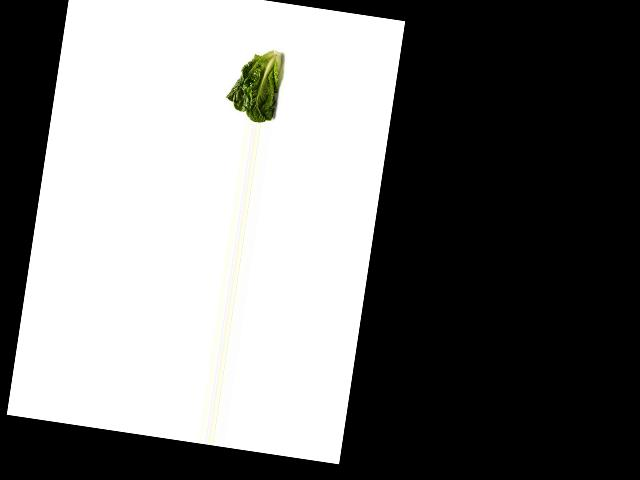lettuce: (223, 41, 295, 126)
